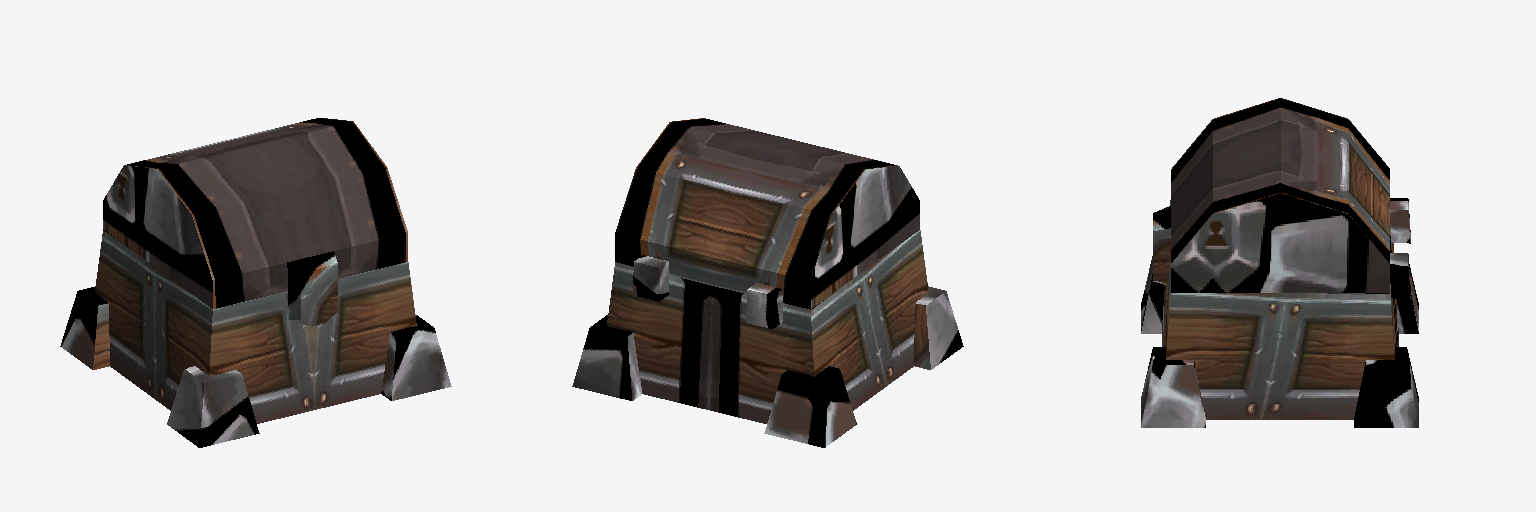
The picture shows the model from 3 angles: view 1: azimuth 30°, elevation 25°; view 2: azimuth 150°, elevation 25°; view 3: azimuth 270°, elevation 25°; orthographic projection.
Size of the model in its own units: 9.21 by 7.72 by 8.79.
Materials: 1 (1 with a texture image).